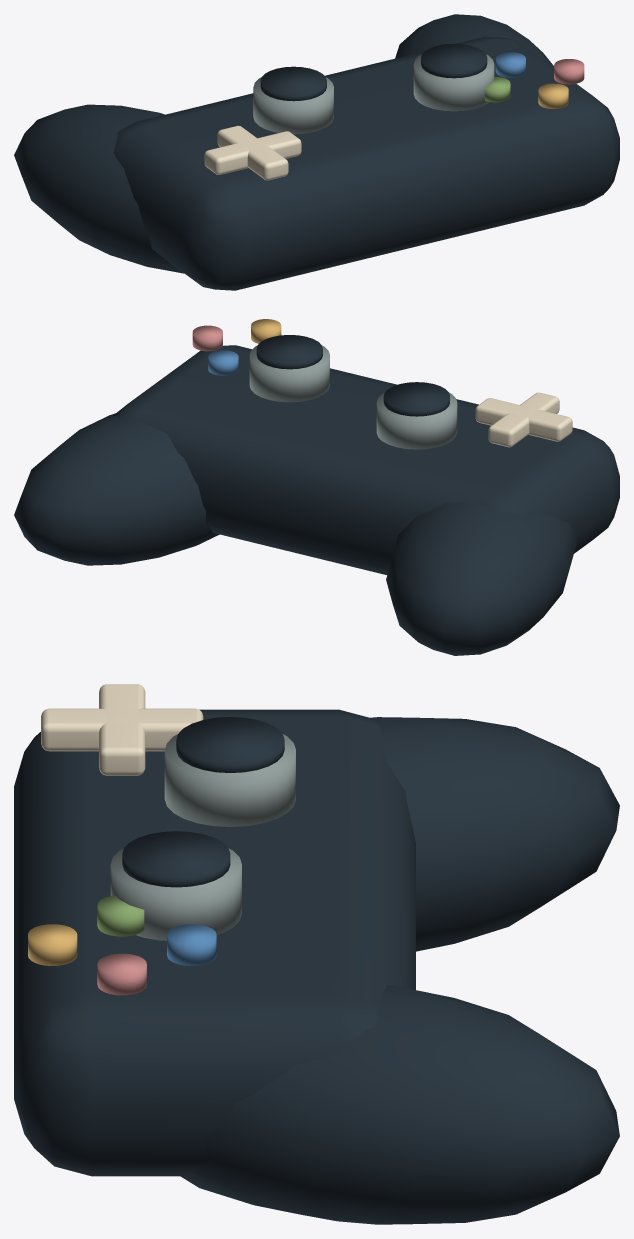
Rendered from GameController.fbx.
3 renders of one model, top to bottom at view 1: azimuth 30°, elevation 25°; view 2: azimuth 150°, elevation 25°; view 3: azimuth 270°, elevation 25°, orthographic. The views are drawn at different scales.
Parts seen in each view (by area): view 1: GameController; view 2: GameController; view 3: GameController.
Boxes of the visible parts, x1=… form: GameController: x1=14, y1=14, x2=619, y2=290; GameController: x1=14, y1=319, x2=619, y2=655; GameController: x1=14, y1=684, x2=619, y2=1224.
Bounding box in the file's own units: 1.22 × 0.41 × 0.7839.
Materials: 1 (1 with a texture image).
